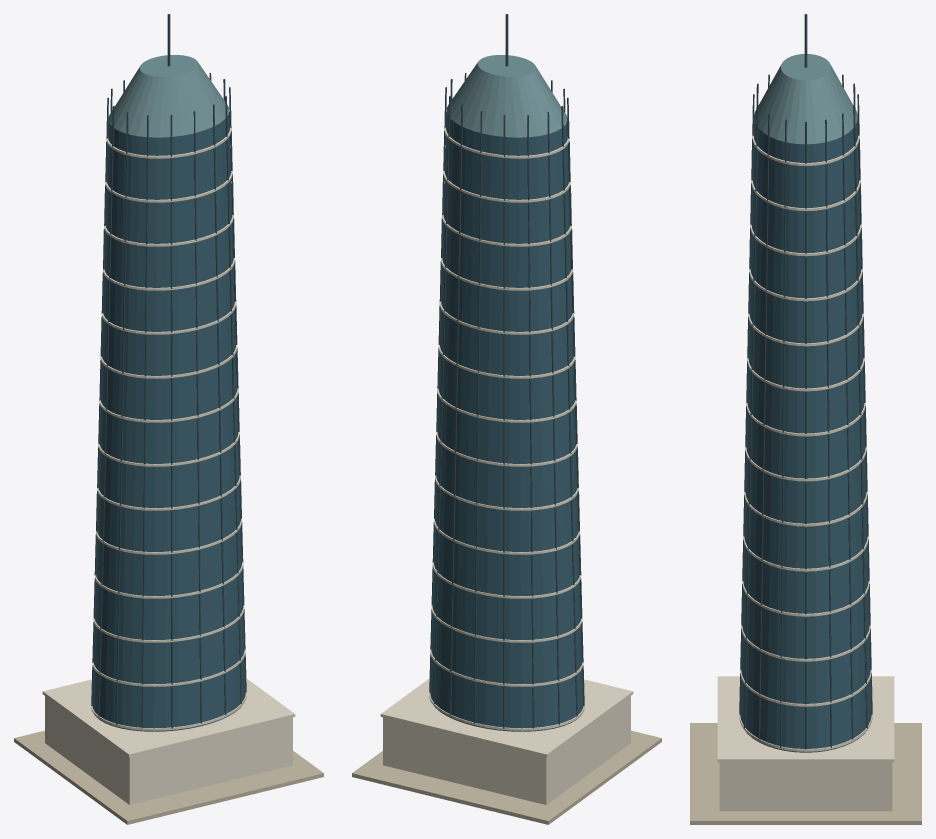
The model's file is glass-tower_lod.glb.
3 views of the same model, side by side, from view 1: azimuth 30°, elevation 25°; view 2: azimuth 150°, elevation 25°; view 3: azimuth 270°, elevation 25° (orthographic). The views are drawn at different scales.
Visible parts, largest first — view 1: glass_tower_Elliptical_Tower, glass_tower_Building_Volume, glass_tower_Sculpted_Crown, glass_tower_Site_Paving, glass_tower_Roof_Coping; view 2: glass_tower_Elliptical_Tower, glass_tower_Building_Volume, glass_tower_Sculpted_Crown, glass_tower_Site_Paving, glass_tower_Roof_Coping; view 3: glass_tower_Elliptical_Tower, glass_tower_Building_Volume, glass_tower_Site_Paving, glass_tower_Sculpted_Crown, glass_tower_Roof_Coping, glass_tower_Tower_Floor_Ring.002, glass_tower_Tower_Floor_Ring.001, glass_tower_Tower_Floor_Ring, glass_tower_Tower_Floor_Ring.003, glass_tower_Tower_Floor_Ring.004, glass_tower_Tower_Floor_Ring.005, glass_tower_Tower_Floor_Ring.006 (+7 smaller).
Part boxes in pixels (x1,y1,x2,y2): glass_tower_Elliptical_Tower: (92, 111, 245, 731); glass_tower_Building_Volume: (45, 696, 292, 804); glass_tower_Sculpted_Crown: (108, 55, 229, 137); glass_tower_Site_Paving: (14, 730, 323, 824); glass_tower_Roof_Coping: (42, 678, 295, 757); glass_tower_Elliptical_Tower: (430, 111, 583, 731); glass_tower_Building_Volume: (383, 696, 630, 804); glass_tower_Sculpted_Crown: (446, 55, 567, 137); glass_tower_Site_Paving: (352, 730, 661, 824); glass_tower_Roof_Coping: (380, 678, 633, 757); glass_tower_Elliptical_Tower: (740, 114, 871, 752); glass_tower_Building_Volume: (719, 762, 892, 811); glass_tower_Site_Paving: (690, 723, 921, 824); glass_tower_Sculpted_Crown: (754, 54, 857, 144); glass_tower_Roof_Coping: (717, 676, 894, 762); glass_tower_Tower_Floor_Ring.002: (741, 625, 870, 661); glass_tower_Tower_Floor_Ring.001: (740, 670, 871, 706); glass_tower_Tower_Floor_Ring: (739, 714, 872, 751); glass_tower_Tower_Floor_Ring.003: (742, 581, 869, 616); glass_tower_Tower_Floor_Ring.004: (743, 536, 868, 571); glass_tower_Tower_Floor_Ring.005: (744, 492, 867, 526); glass_tower_Tower_Floor_Ring.006: (745, 447, 866, 481).
Size of the model in its own units: 11.8 by 42.75 by 11.8.
